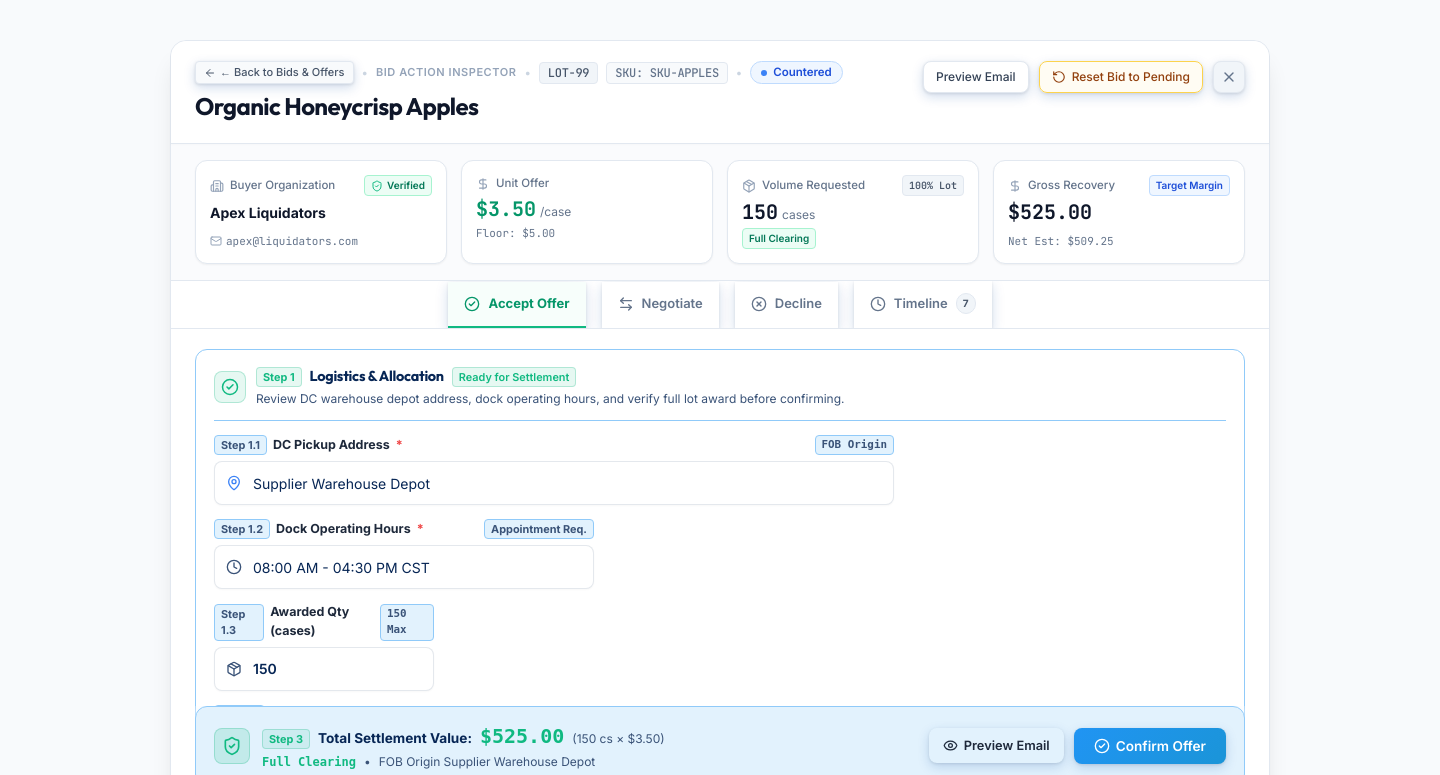
Test case: Frontend Seam A: BidActionInspectorModal (Issue #02) › renders chronological negotiation events in Timeline Tab and removes Negotiation History Thread from action tabs
Switch to Negotiate tab and verify Negotiation History Thread is not in tabs
Click the button "Negotiate" at (660, 305), box [602,282,719,328]
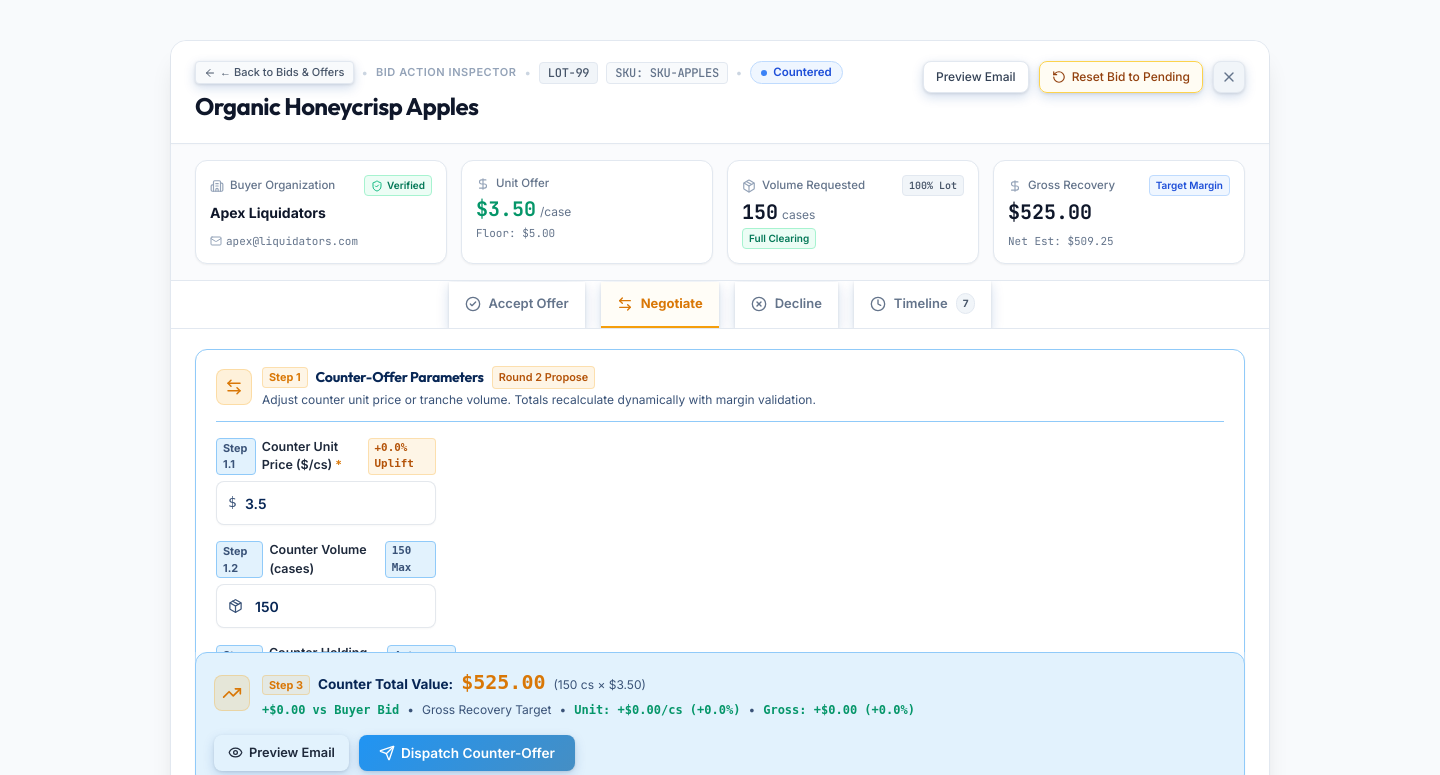
Switch to Timeline tab where chronological negotiation events are rendered
Click the button "Timeline 7" at (923, 305), box [854,281,992,329]
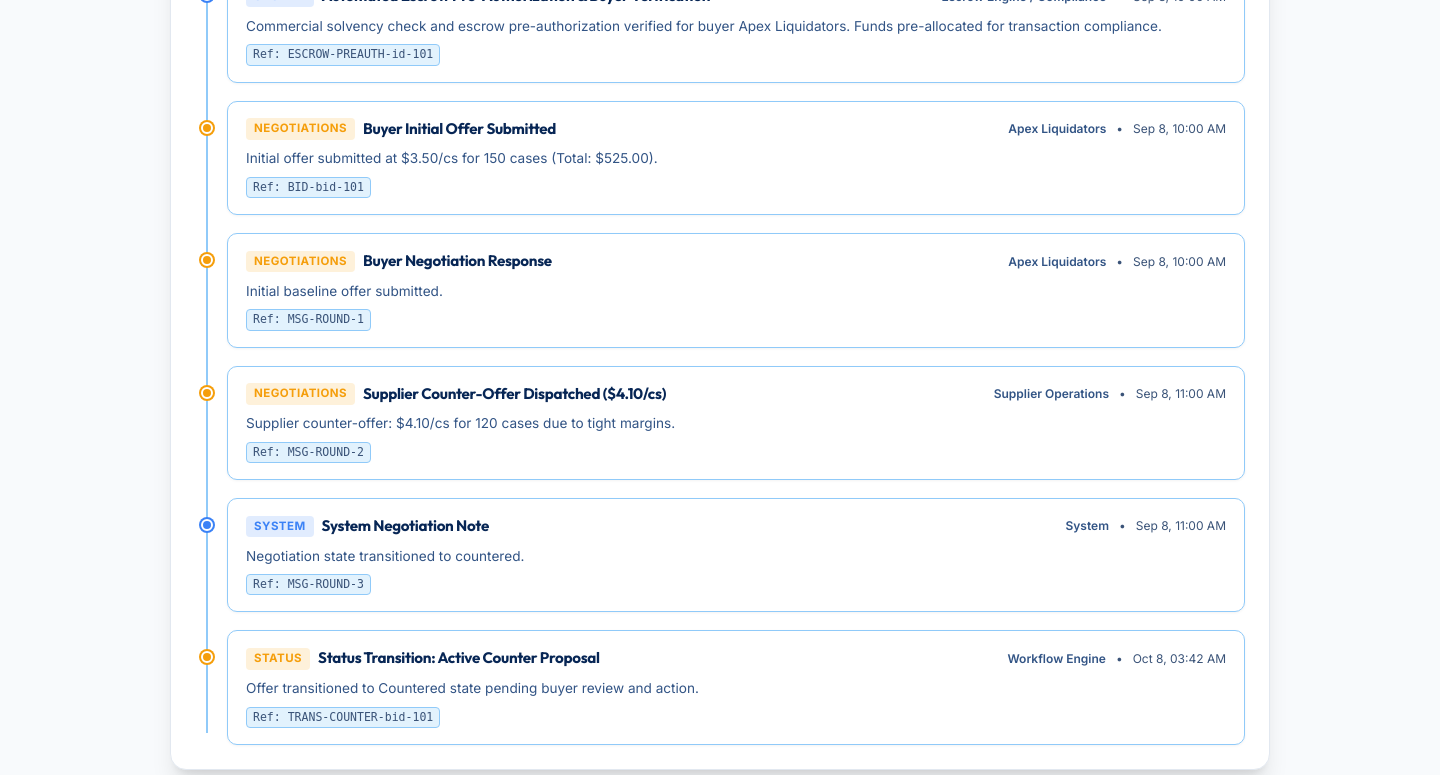
Now the element with test id "timeline-activity-feed" is shown
Now the text "Initial offer submitted at $3.50/cs for 150 cases" is shown, box [246,150,658,166]
Now the text "Supplier counter-offer: $4.10/cs for 120 cases due to tight margins." is shown, box [246,415,675,431]
